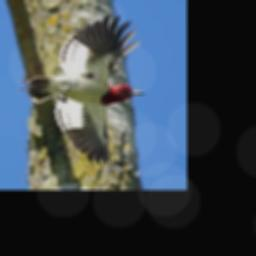Woodpecker: (22, 15, 145, 171)
